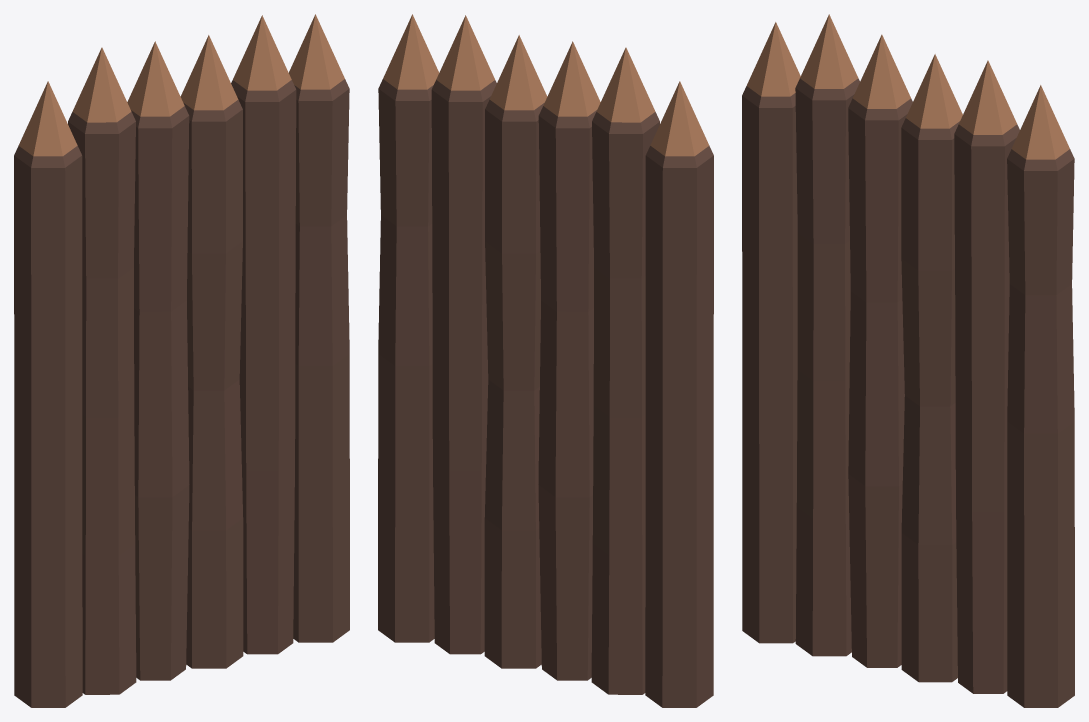
The model's file is TrunkFence_03.fbx.
3 renders of one model, left to right at view 1: azimuth 30°, elevation 25°; view 2: azimuth 150°, elevation 25°; view 3: azimuth 330°, elevation 25°, orthographic.
Parts seen in each view (by area): view 1: TrunkFence_03; view 2: TrunkFence_03; view 3: TrunkFence_03.
Boxes of the visible parts, bbox=[...] form: TrunkFence_03: bbox=[14, 14, 349, 707]; TrunkFence_03: bbox=[378, 14, 713, 707]; TrunkFence_03: bbox=[742, 14, 1074, 707].
Bounding box in the file's own units: 288 × 549 × 53.34.
